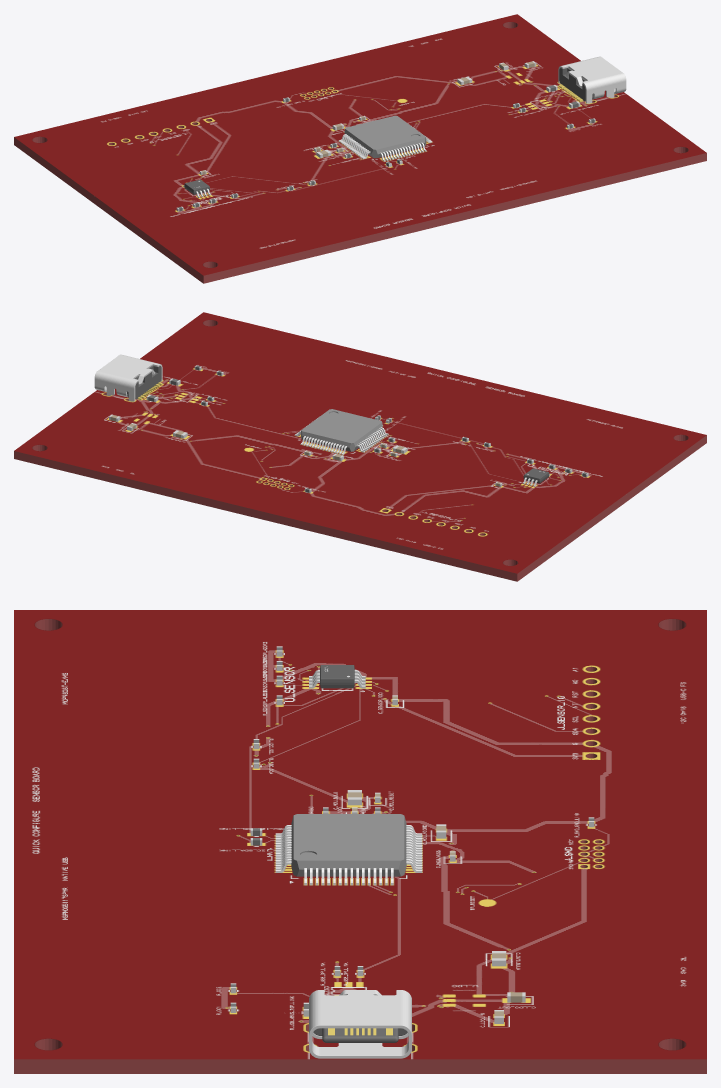
3 renders of one model, top to bottom at view 1: azimuth 30°, elevation 25°; view 2: azimuth 150°, elevation 25°; view 3: azimuth 270°, elevation 25°, orthographic. The views are drawn at different scales.
Visible parts, largest first — view 1: Box0, U_MAIN, J_USB; view 2: Box0, U_MAIN, J_USB; view 3: Box0, U_MAIN, J_USB, U_SENSOR.
Boxes of the visible parts, <box> form: Box0: <box>14,14,706,283</box>; U_MAIN: <box>338,115,432,161</box>; J_USB: <box>558,56,626,103</box>; Box0: <box>14,312,706,581</box>; U_MAIN: <box>294,409,388,454</box>; J_USB: <box>94,354,162,401</box>; Box0: <box>14,610,706,1073</box>; U_MAIN: <box>275,814,422,885</box>; J_USB: <box>309,990,411,1058</box>; U_SENSOR: <box>309,665,365,688</box>.
Bounding box in the file's own units: 92.04 × 4.65 × 60.
Materials: 13 (2 with a texture image).
